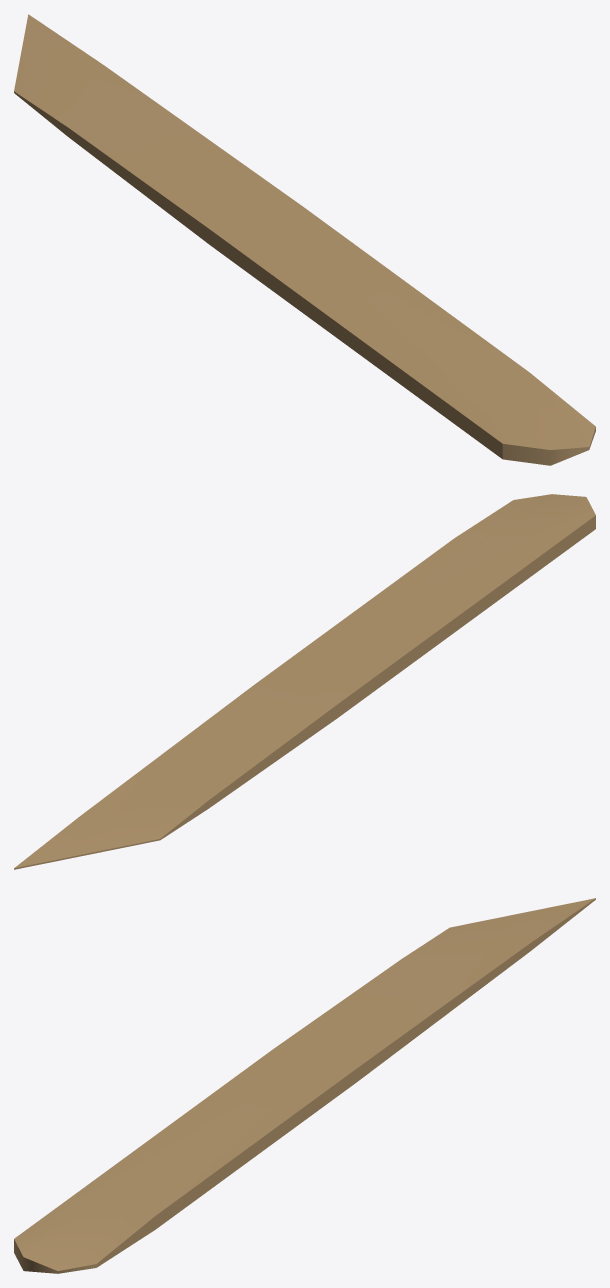
File: atoll_potteryTool1.fbx
The picture shows the model from 3 angles, top to bottom: view 1: azimuth 30°, elevation 25°; view 2: azimuth 150°, elevation 25°; view 3: azimuth 330°, elevation 25°; orthographic projection. The views are drawn at different scales.
Parts seen in each view (by area): view 1: Tool1; view 2: Tool1; view 3: Tool1.
Boxes of the visible parts, bbox=[...] form: Tool1: bbox=[14, 14, 595, 465]; Tool1: bbox=[14, 494, 595, 869]; Tool1: bbox=[14, 898, 595, 1273].
Size of the model in its own units: 2.82 by 0.4534 by 30.62.
